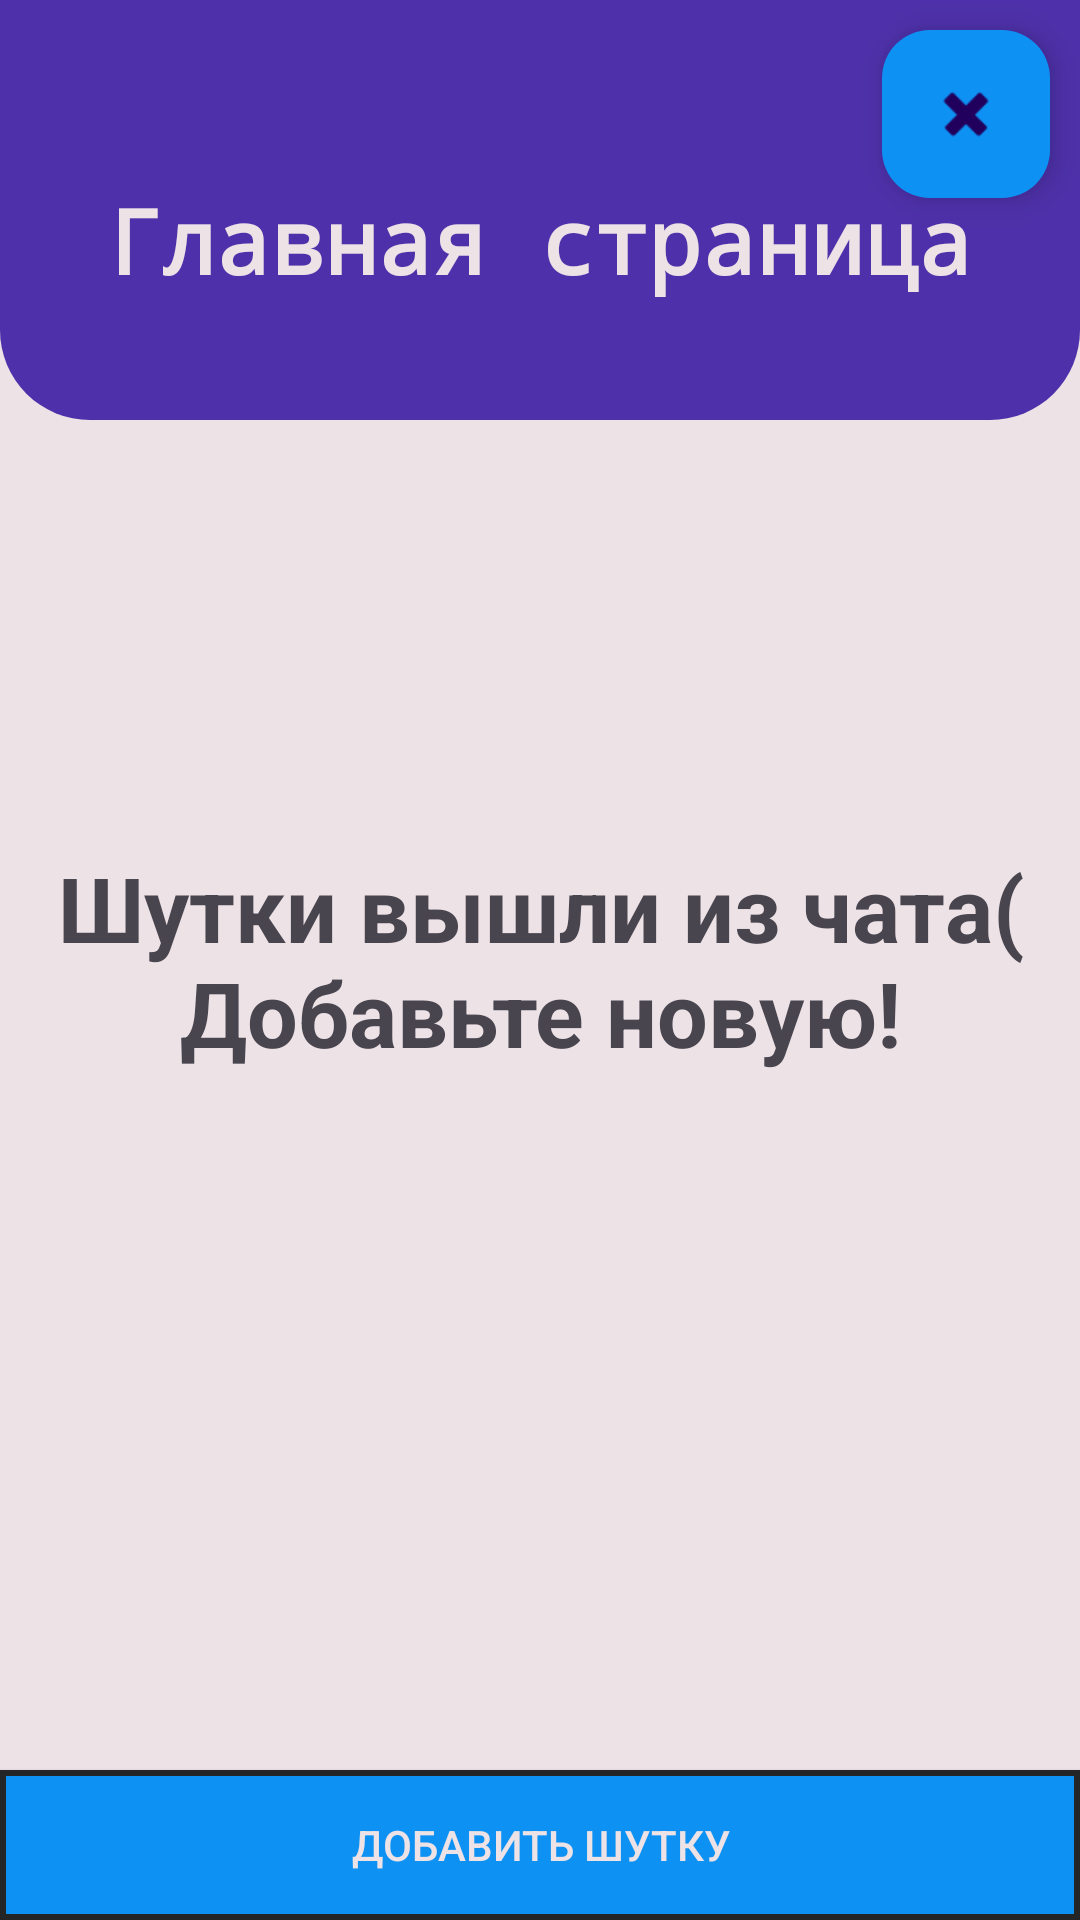

Screen size 1080 x 1920. Icon name, then its box in pixels as bbox(x1, y1, x2, y2):
delete: bbox(882, 30, 1050, 198)
